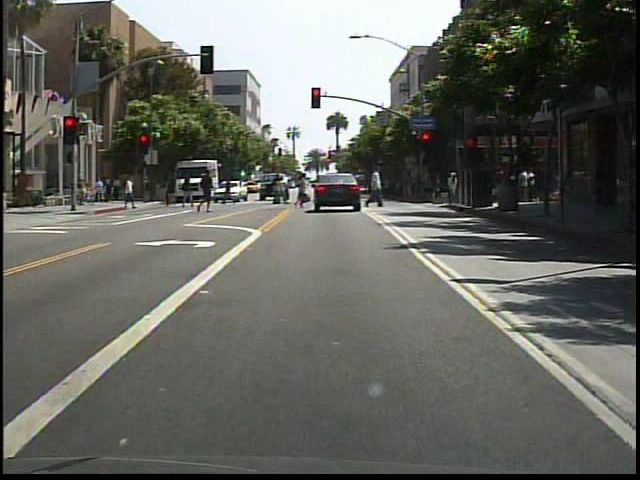person: (363, 162, 390, 214), (199, 168, 221, 217), (296, 172, 315, 210), (123, 174, 140, 213), (183, 174, 199, 211)
